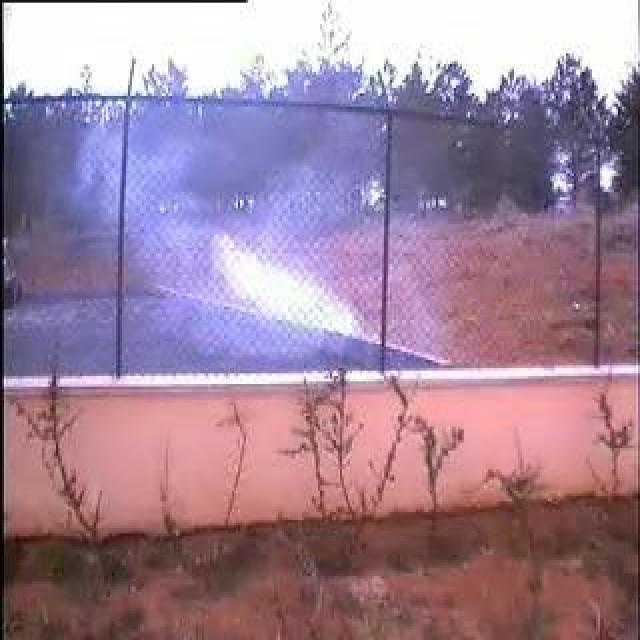Smoke: (124, 121, 386, 380)
